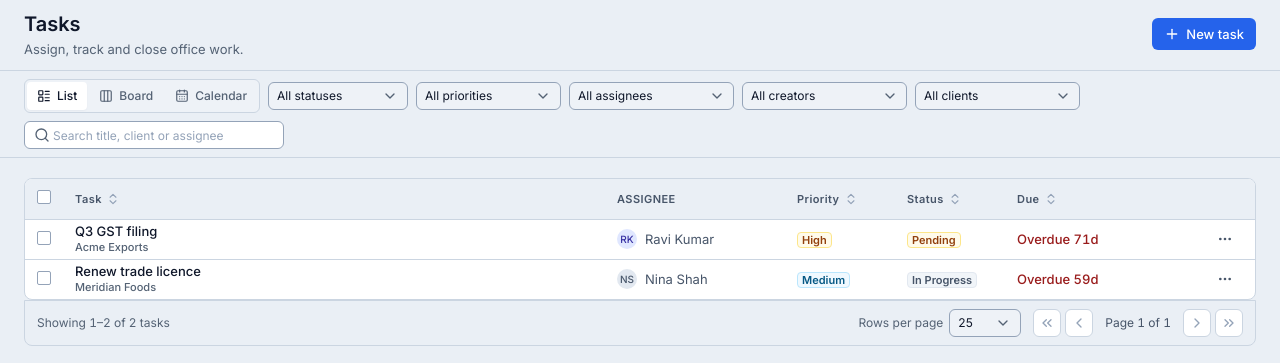
Test: TaskList — the creator filter (H-6) › offers only people who can create a task
expect the text "Q3 GST filing" is shown: met, box [75, 223, 157, 239]
Click the dropdown named "Filter by creator" at coordinates (824, 96), box [742, 82, 907, 110]
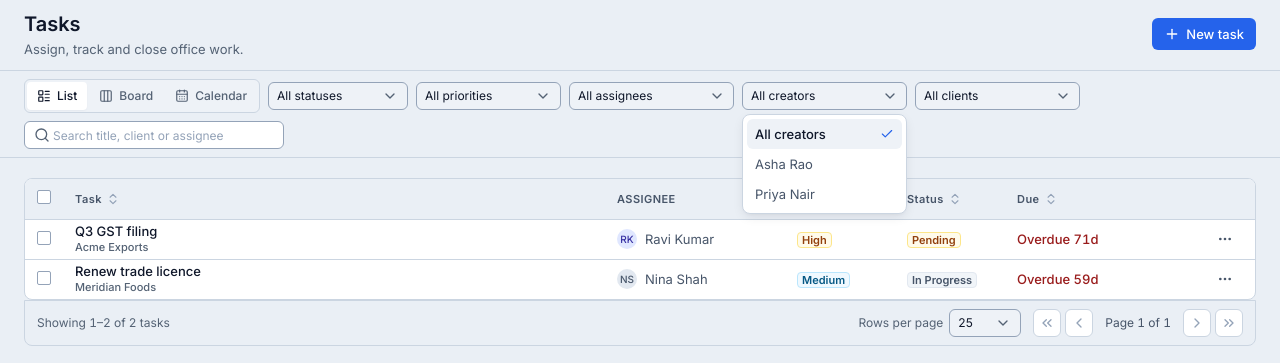
expect the option "Priya Nair" is shown: met, box [755, 186, 815, 202]
expect the option "Asha Rao" is shown: met, box [755, 156, 813, 172]
